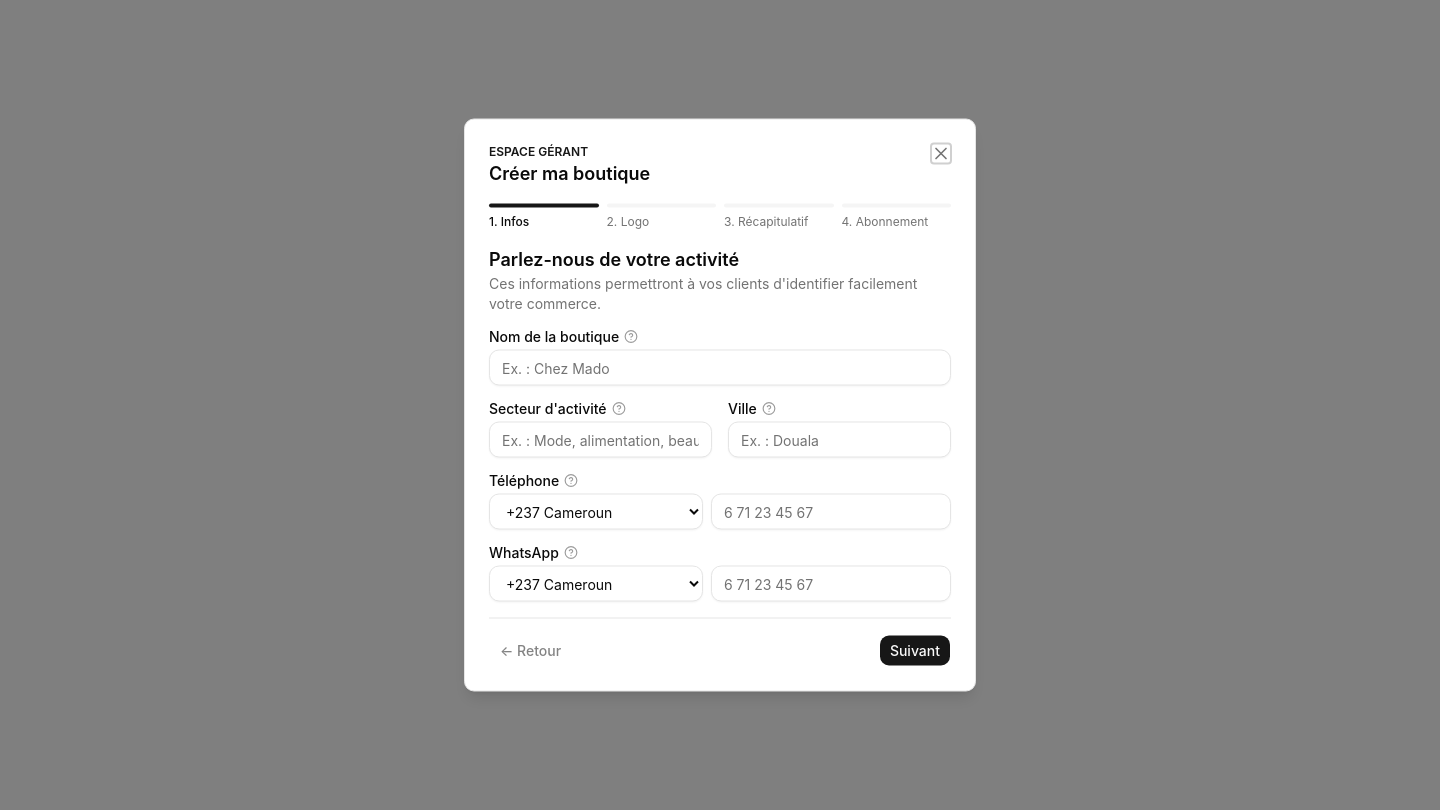
Test: CreateShopWizard › defaults to the yearly plan, highlighted as the best offer, on step 4
The width and height of the screenshot is (1440, 810).
Step 1. Type "Chez Mado" into the field labelled "Nom de la boutique" → [720, 368], box [489,350,951,386]
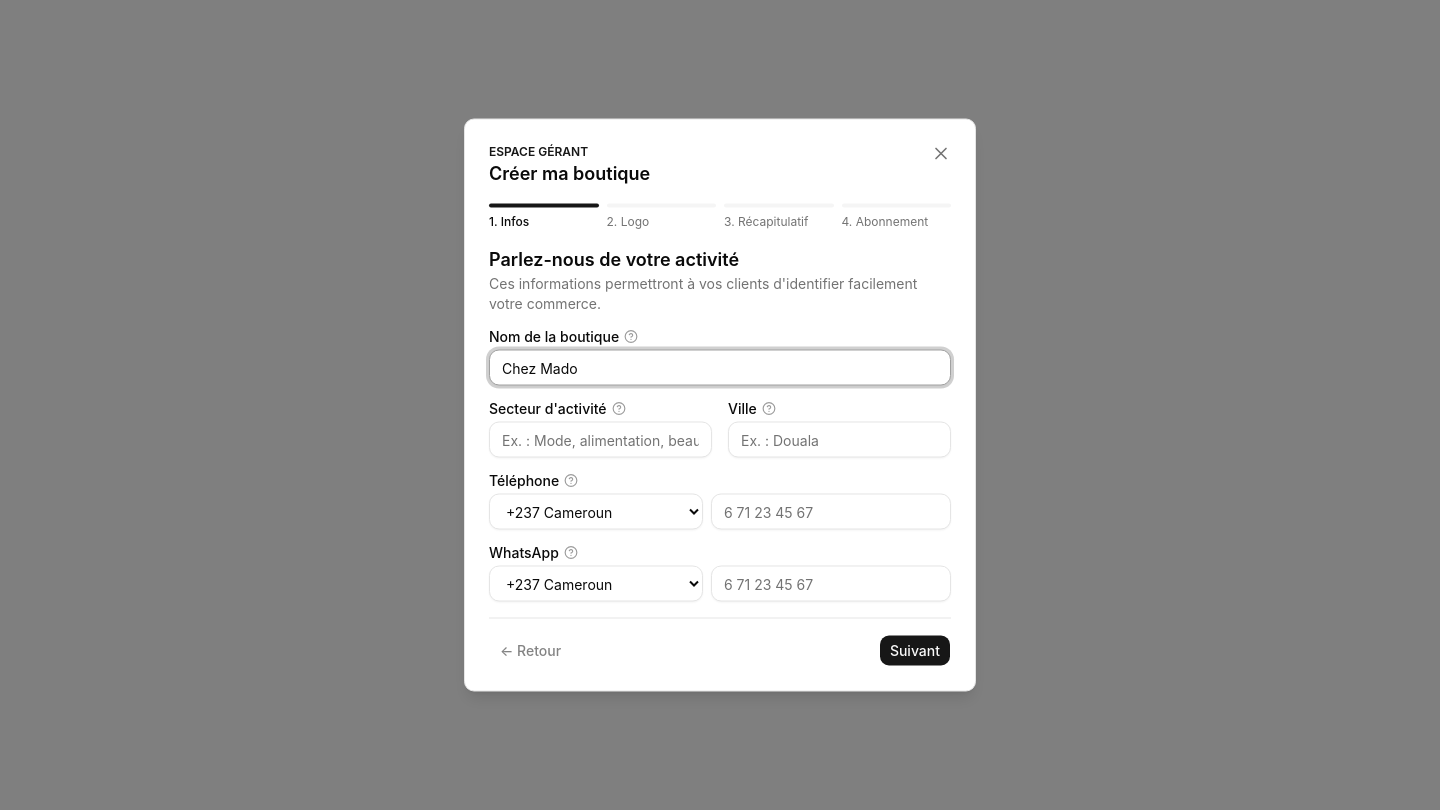
Step 2. Click the button "Suivant" → [915, 650], box [879,634,951,666]
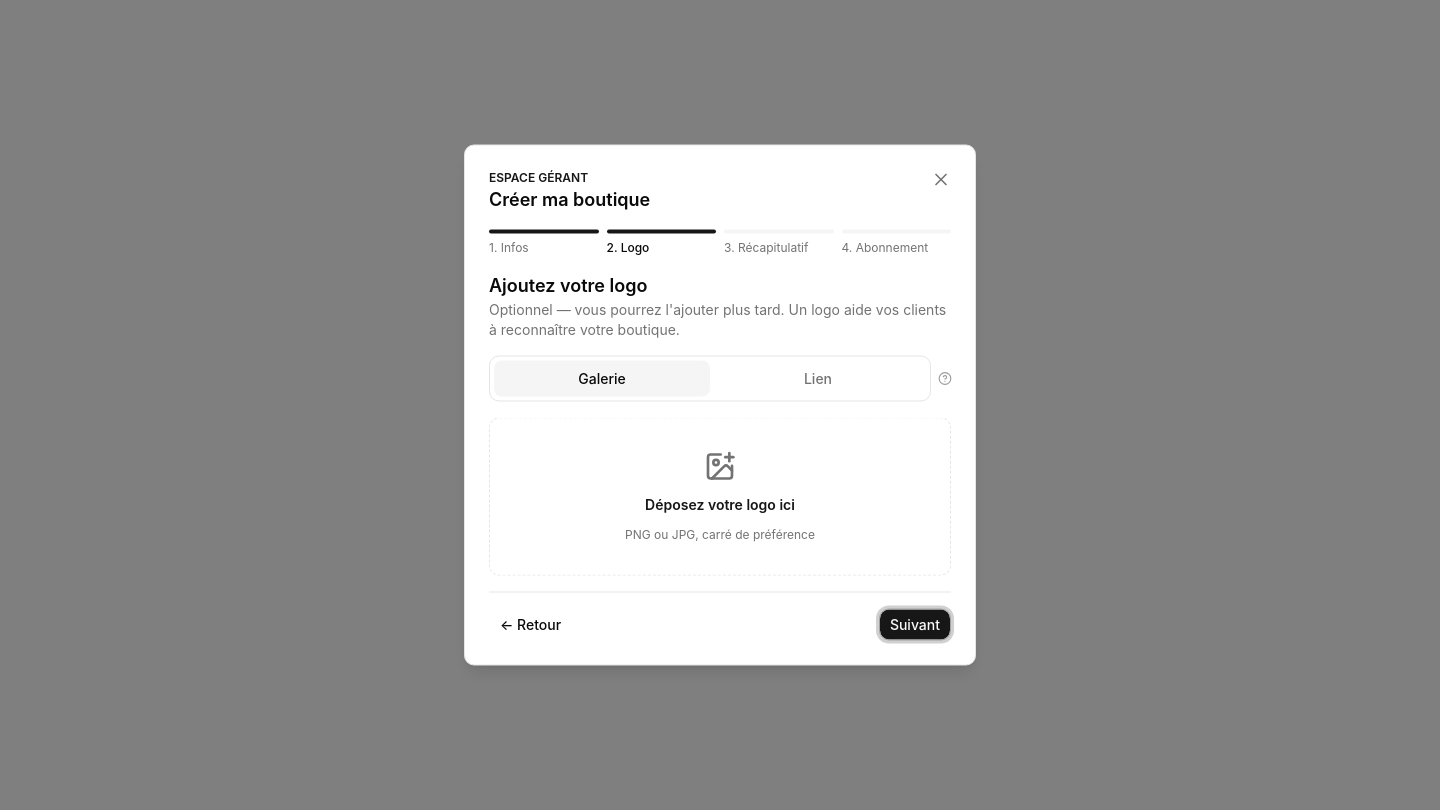
Step 3. Click the button "Suivant" → [915, 624], box [879,608,951,640]
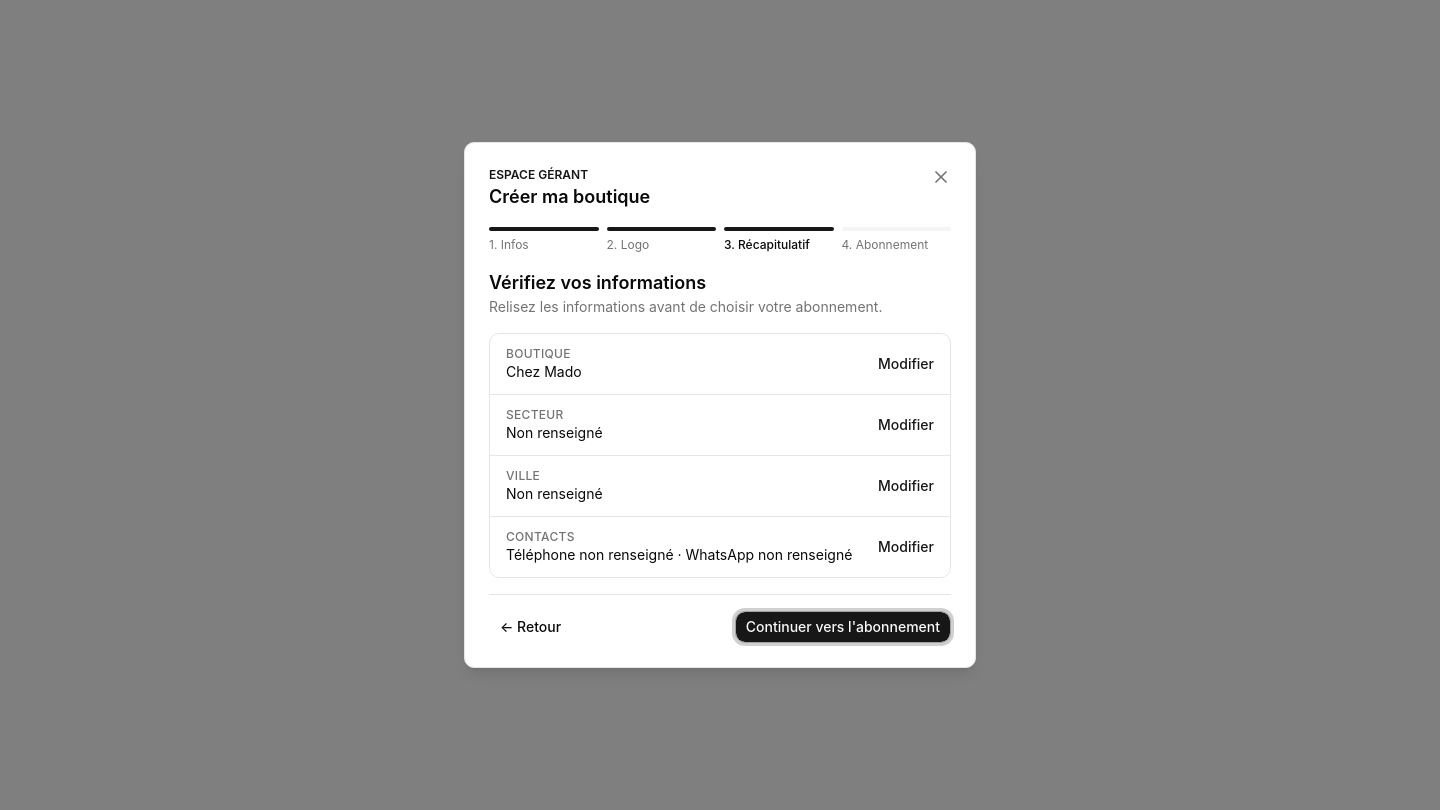
Step 4. Click the button "Continuer vers l'abonnement" → [843, 627], box [735,611,951,643]
(page scrolled)
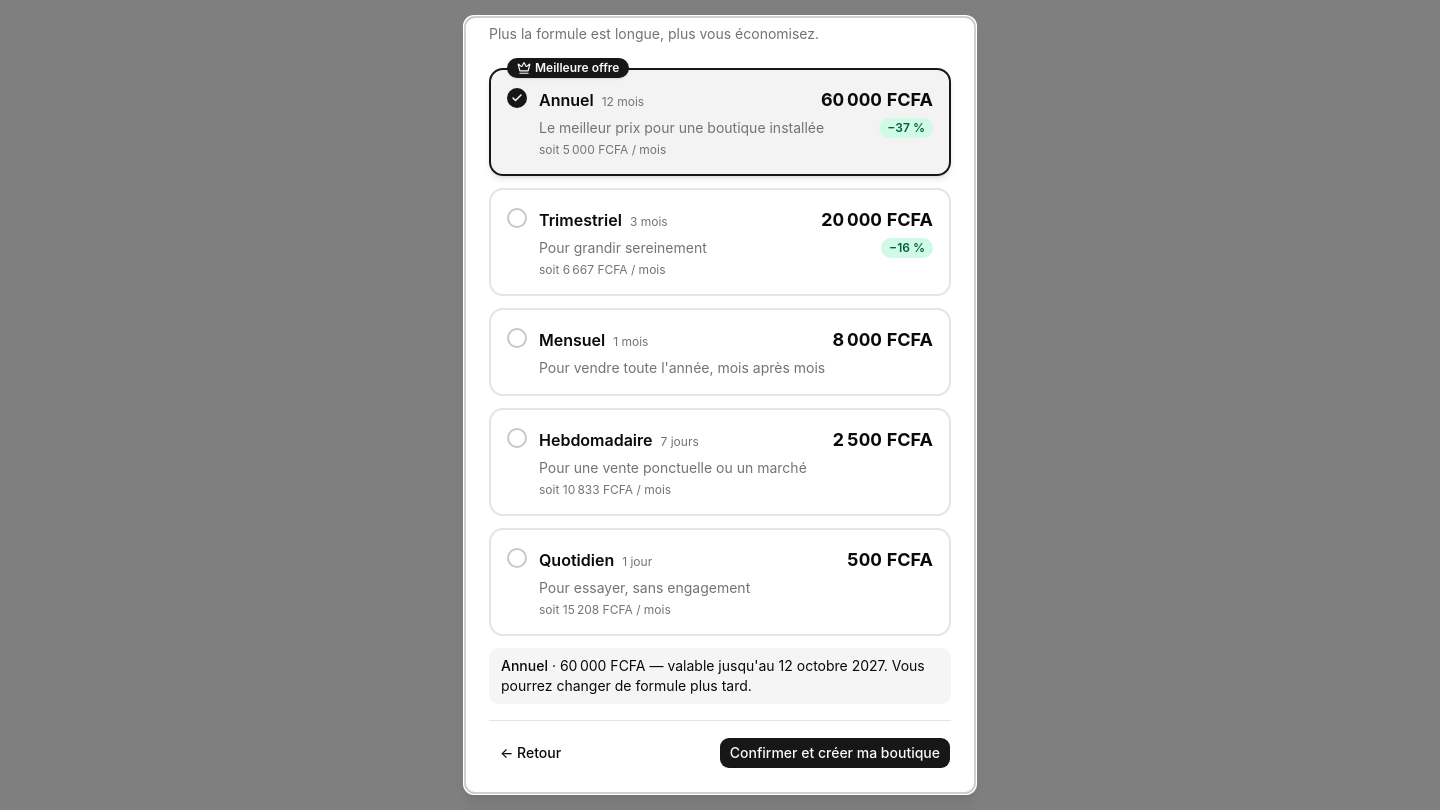
expect the radio button labelled "Annuel" shows "Meilleure offre": met, box [489,68,951,176]
expect the radio button labelled "Annuel" shows "12 mois": met, box [489,68,951,176]
expect the radio button labelled "Annuel" shows "−37 %": met, box [489,68,951,176]
